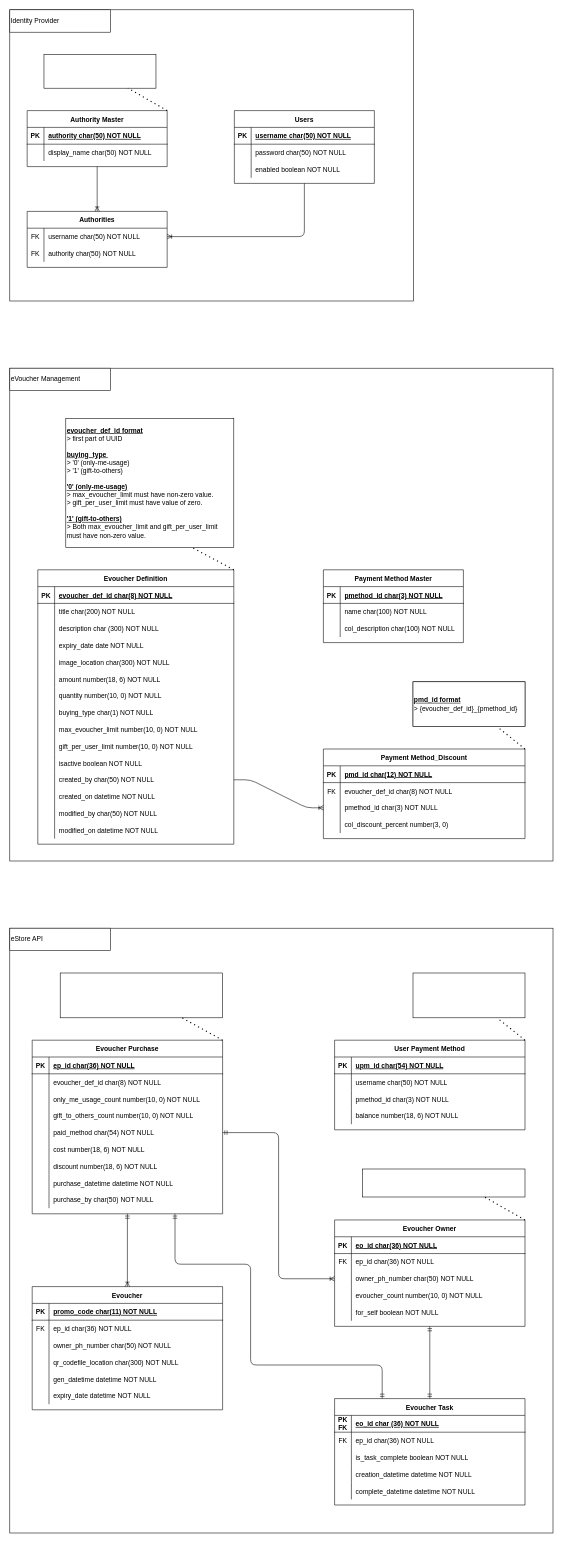
This 563x1543 diagram has some shape labels left out. Each missing label, with the centre of its shape:
"eo_id format > UUID ver 4" belongs at point (443, 1182).
"ep_id format > UUID ver 4 discount > not percentage but caculated money value" belongs at point (141, 995).
"roles > ROLE_ADMIN (Admin) > ROLE_CUSTOMER (Customer)" belongs at point (99, 71).
"upm_id format > {card ID}/{payment ID}" belongs at point (468, 995).
